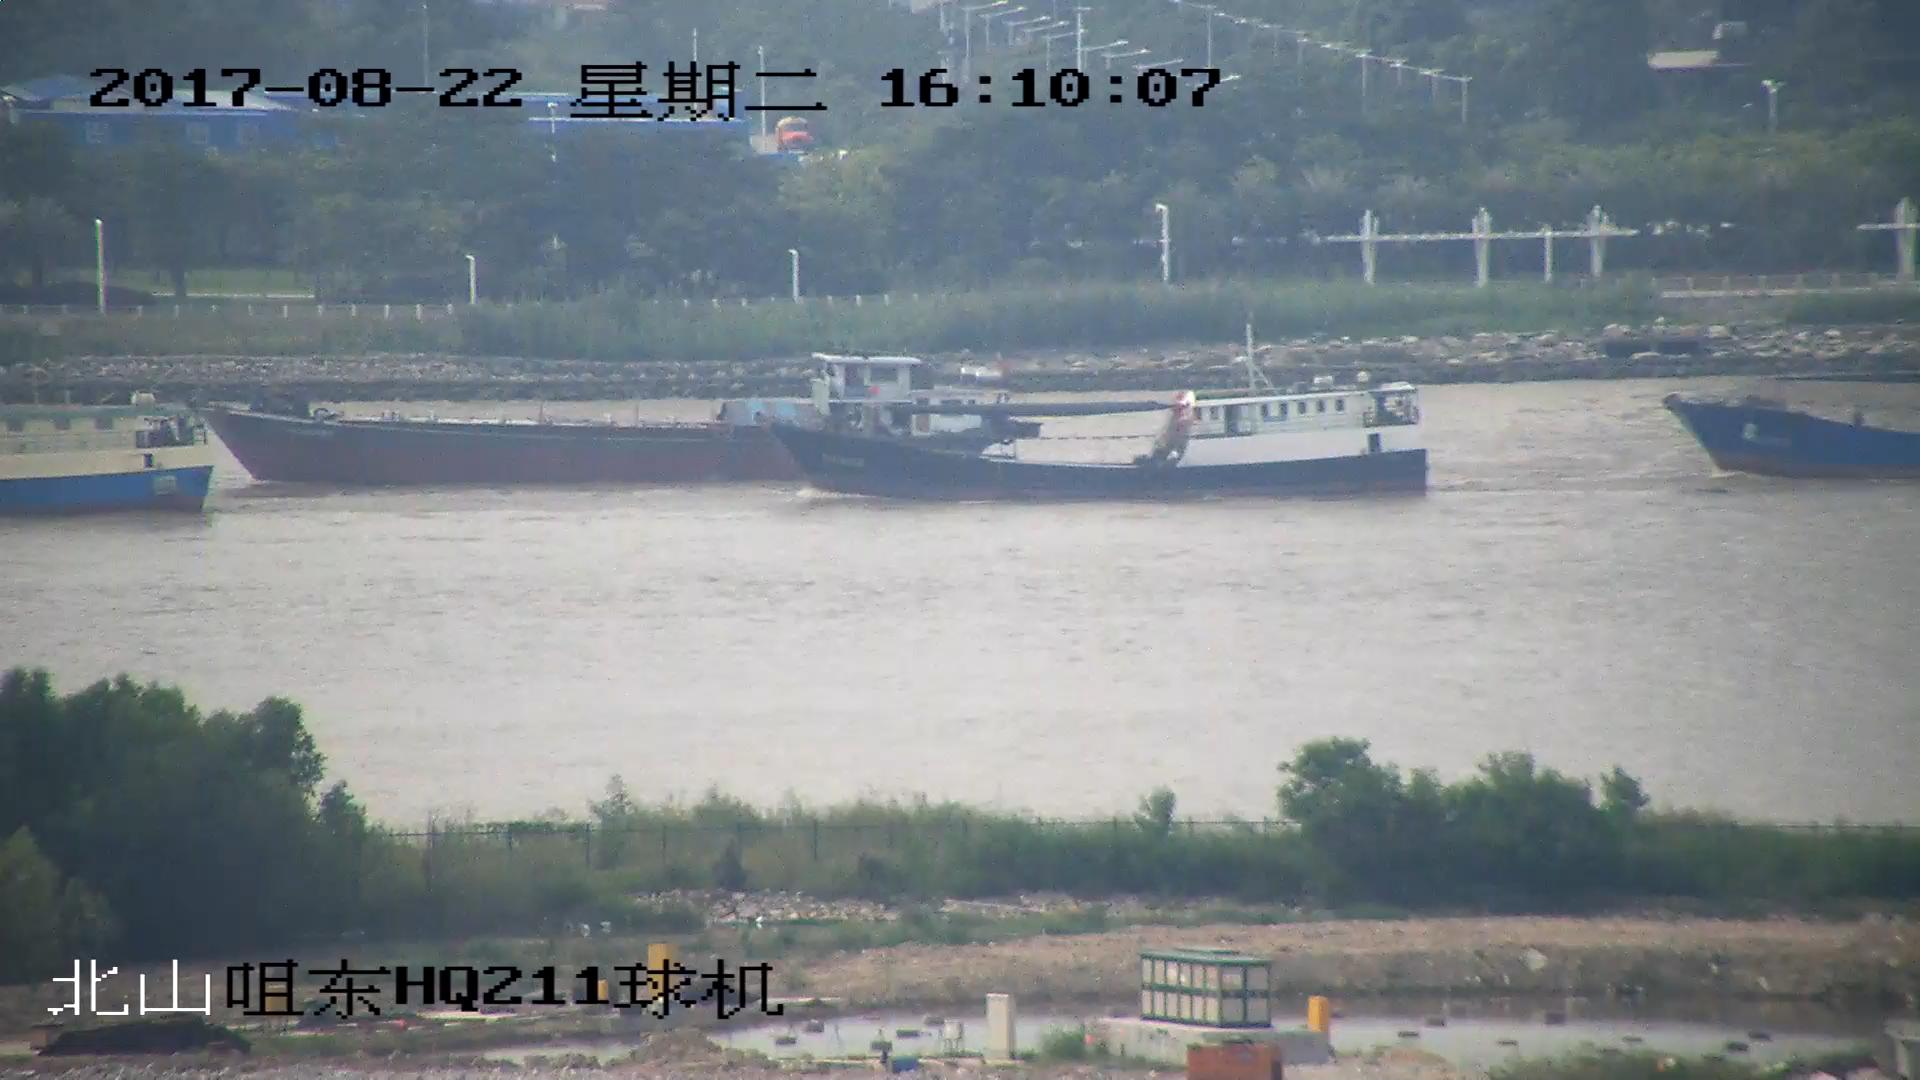bulk cargo carrier: (202, 356, 1059, 486)
fishing boat: (763, 324, 1436, 493), (1663, 376, 1920, 483), (1, 390, 223, 510)
